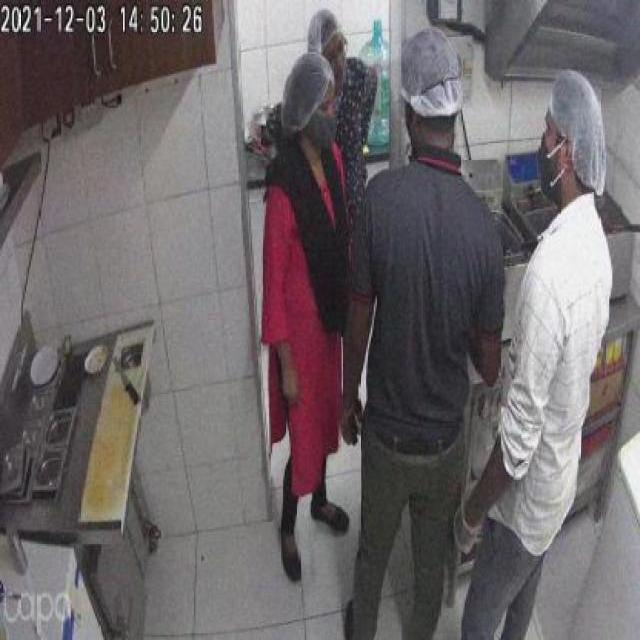hairnet: (552, 64, 609, 195), (400, 28, 464, 121), (282, 54, 332, 131), (304, 7, 339, 51)
